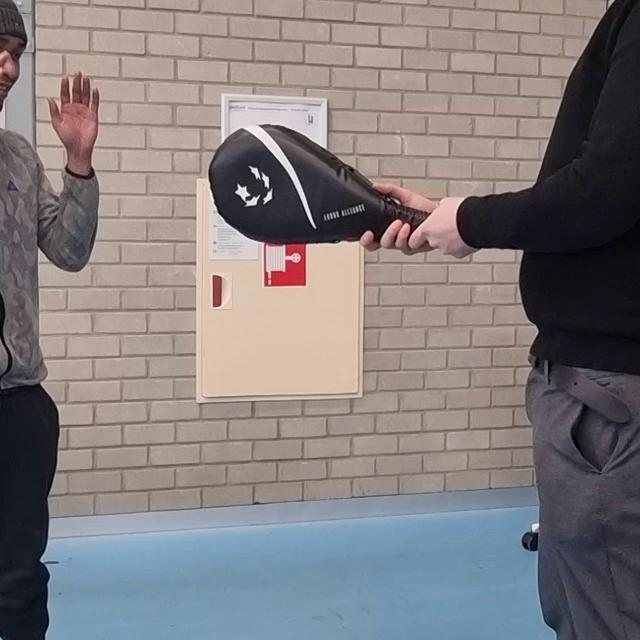paddle: (211, 125, 431, 246)
